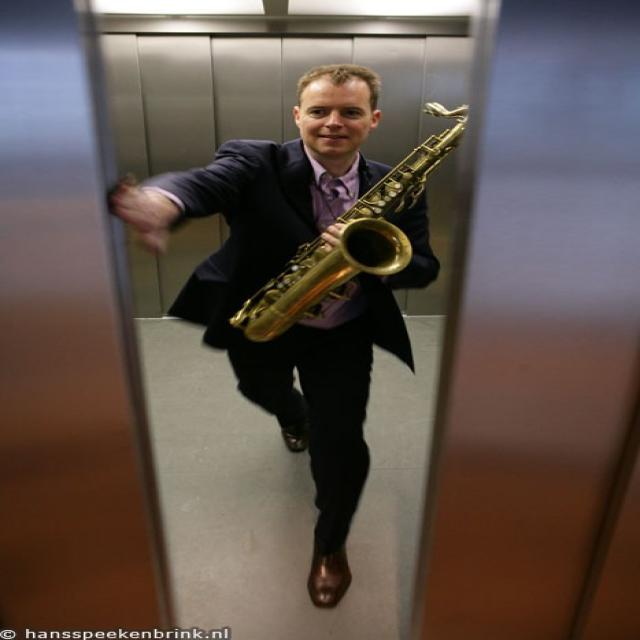saxophone: (230, 103, 478, 344)
